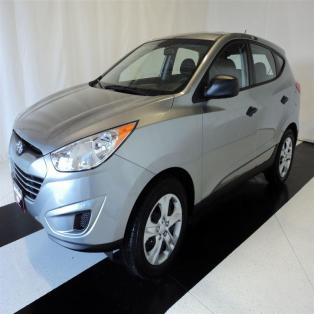Auto: (8, 29, 300, 275)
